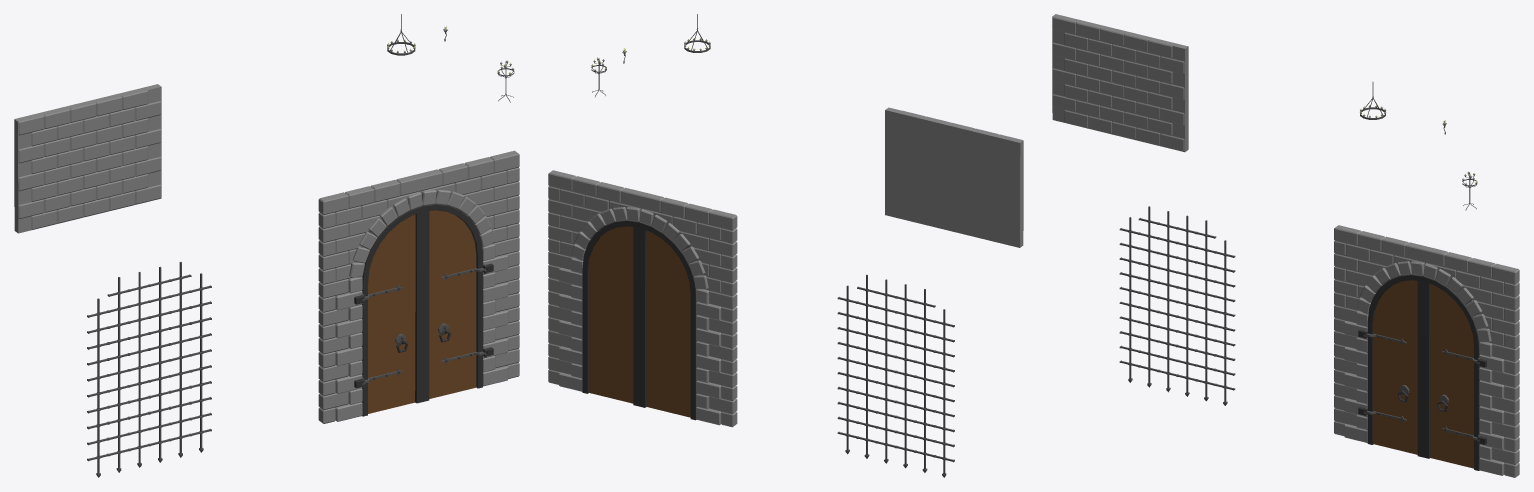
The model's file is shadowmoneysWALLSANDSTUFF.fbx.
3 renders of one model, left to right at view 1: azimuth 30°, elevation 25°; view 2: azimuth 150°, elevation 25°; view 3: azimuth 330°, elevation 25°, orthographic. The views are drawn at different scales.
Parts seen in each view (by area): view 1: LargeDoorWay, Wall, LargeWoodenDoorLeft, LargeWoodenDoorRight, LargeGate; view 2: LargeDoorWay, Wall, LargeWoodenDoorLeft, LargeWoodenDoorRight, LargeGate; view 3: LargeDoorWay, Wall, LargeWoodenDoorRight, LargeWoodenDoorLeft, LargeGate.
Part boxes in pixels (bbox=[...]): LargeDoorWay: bbox=[318, 150, 519, 423]; Wall: bbox=[14, 84, 161, 233]; LargeWoodenDoorLeft: bbox=[361, 205, 422, 416]; LargeWoodenDoorRight: bbox=[422, 204, 486, 401]; LargeGate: bbox=[87, 262, 211, 477]; LargeDoorWay: bbox=[548, 170, 737, 427]; Wall: bbox=[885, 107, 1023, 247]; LargeWoodenDoorLeft: bbox=[639, 222, 696, 420]; LargeWoodenDoorRight: bbox=[582, 220, 639, 406]; LargeGate: bbox=[837, 274, 954, 477]; LargeDoorWay: bbox=[1334, 225, 1519, 477]; Wall: bbox=[1052, 14, 1188, 152]; LargeWoodenDoorRight: bbox=[1423, 276, 1480, 470]; LargeWoodenDoorLeft: bbox=[1364, 274, 1423, 457]; LargeGate: bbox=[1119, 206, 1235, 405].
Size of the model in its own units: 15823 by 12344 by 1705.
